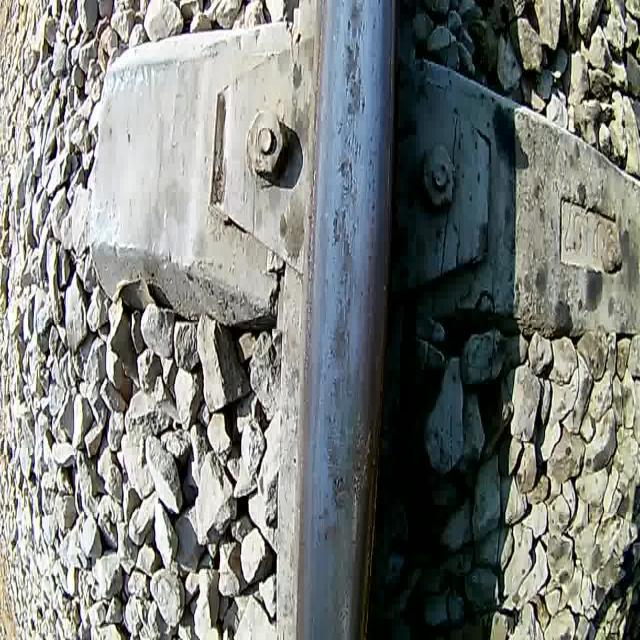Squats: (323, 368, 365, 519), (341, 40, 366, 125), (328, 294, 354, 364), (330, 206, 356, 274), (314, 518, 350, 548), (343, 0, 366, 35), (335, 151, 354, 187)
